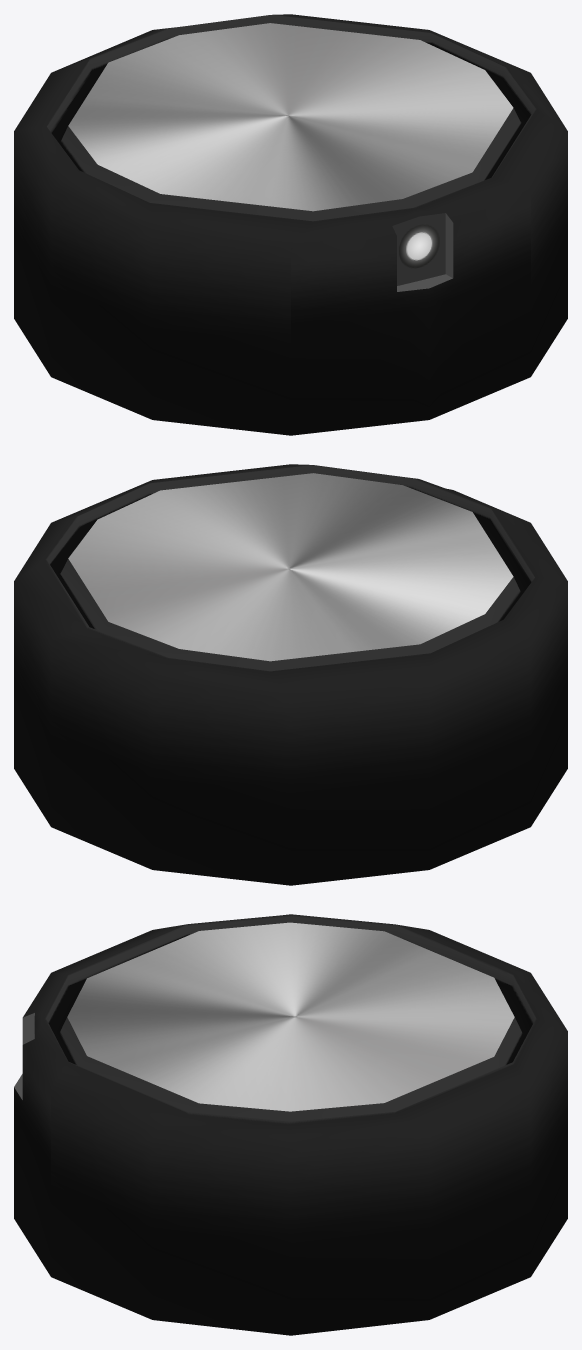
File: puck-spcl-roomba.glb
3 views of the same model, one above another, from view 1: azimuth 30°, elevation 25°; view 2: azimuth 150°, elevation 25°; view 3: azimuth 270°, elevation 25° (orthographic).
Visible parts, largest first — view 1: roomba; view 2: roomba; view 3: roomba.
Part boxes in pixels (bbox=[...]): roomba: bbox=[14, 14, 567, 435]; roomba: bbox=[14, 464, 567, 885]; roomba: bbox=[14, 914, 567, 1335].
Bounding box in the file's own units: 1 × 0.4014 × 1.
Materials: 1 (1 with a texture image).
